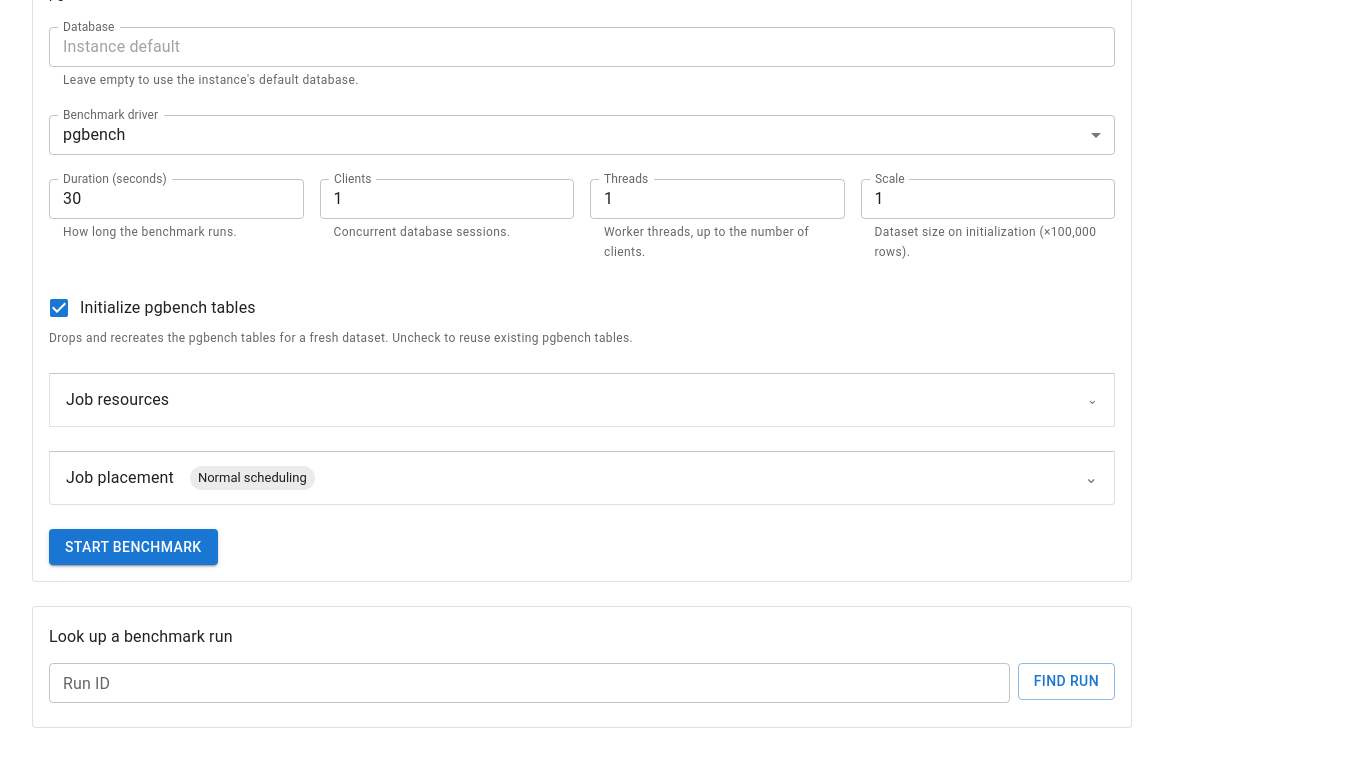
benchmark driver workflow › pgbench pauses a missing lookup and retries only its GET
(page scrolled)
Type " saved-run " into the field labelled "Run ID" at [529, 683], box [49, 663, 1010, 703]
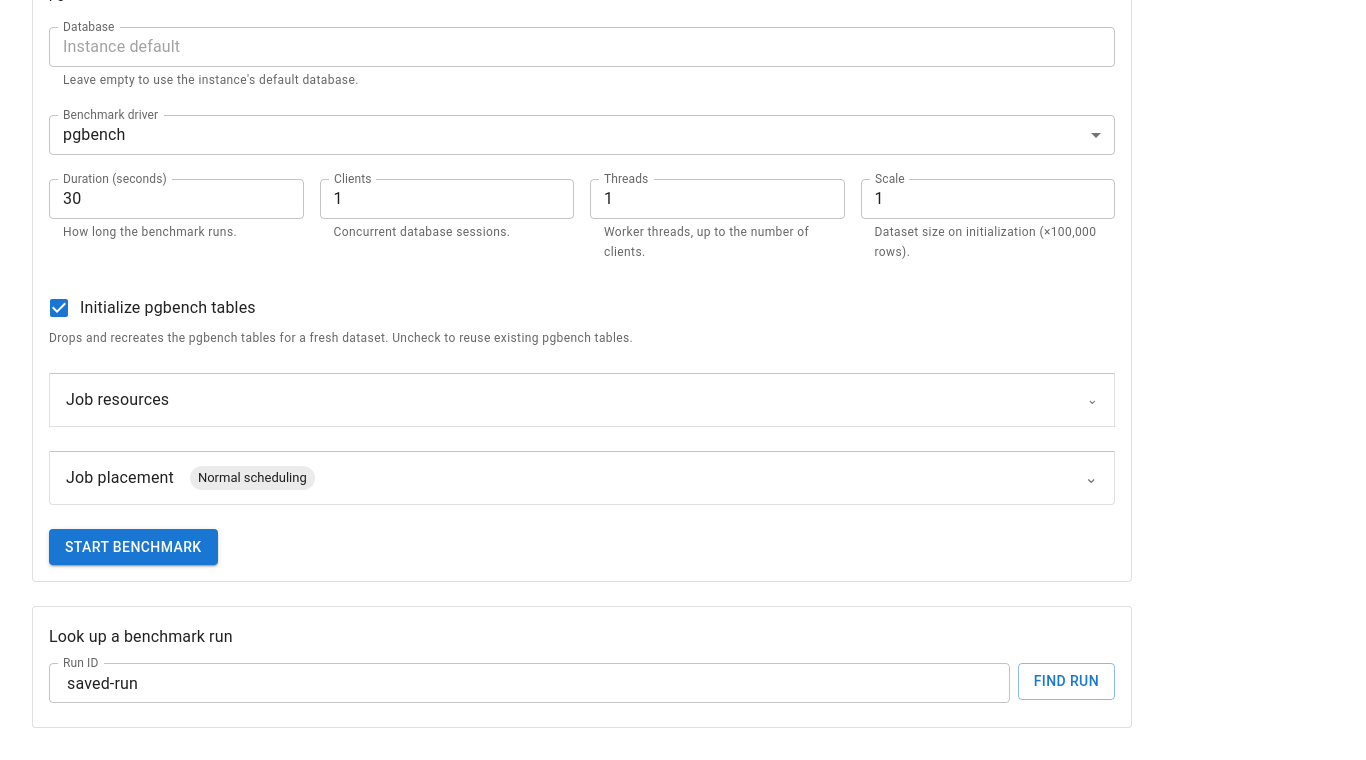
Click the button "Find run" at [1066, 681], box [1018, 663, 1115, 700]
Wait 10000 ms
(page scrolled)
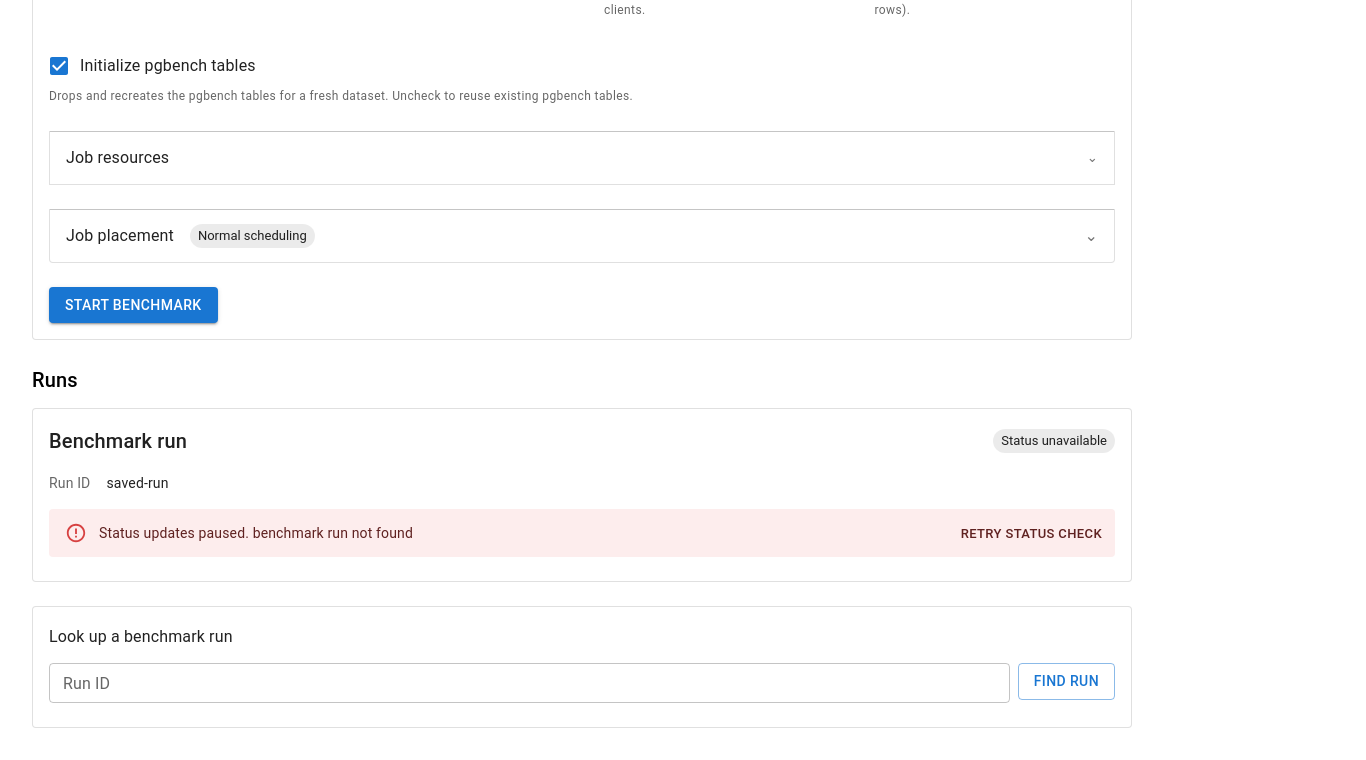
Now the text "Status updates paused. benchmark run not found" is shown, box [99, 525, 413, 541]
Click the button "Retry status check" at [1031, 534], box [956, 519, 1107, 550]
(page scrolled)
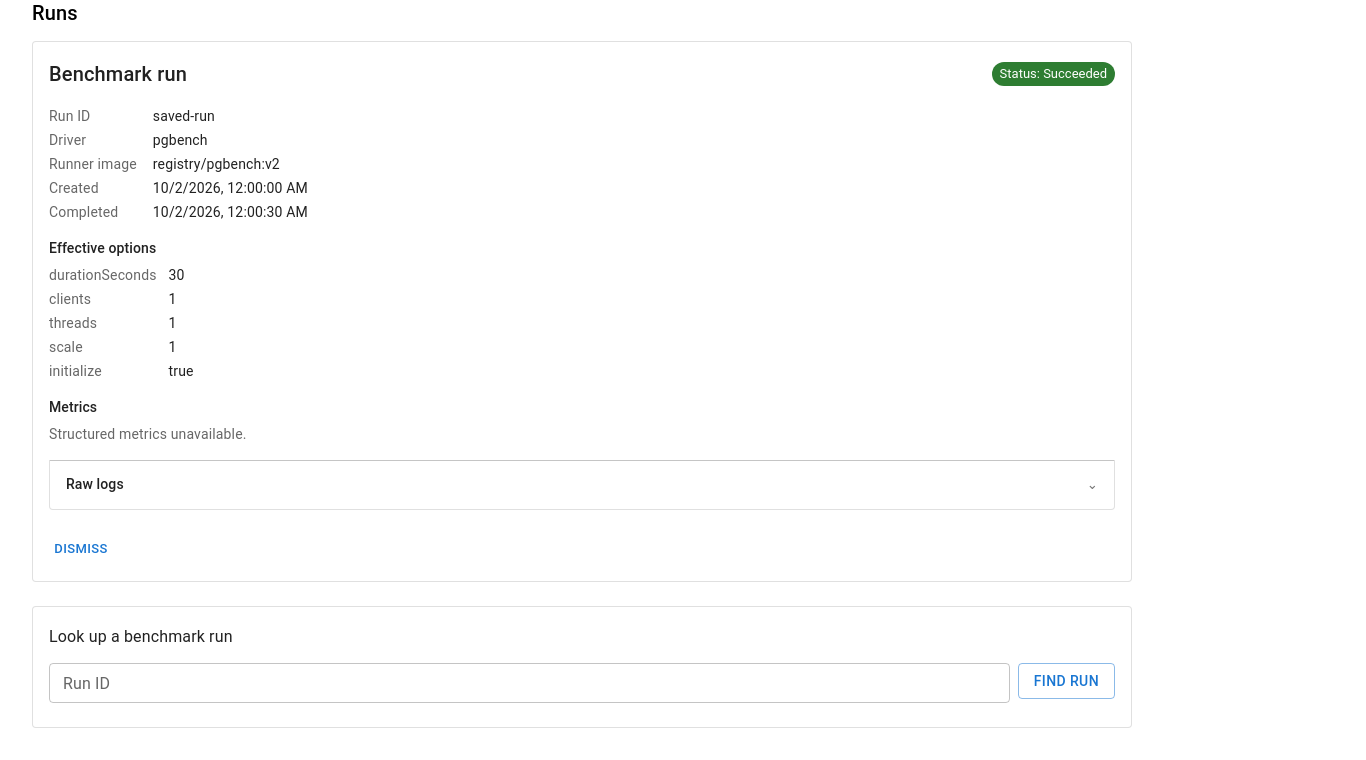
Now the message shows "Succeeded", box [1000, 66, 1107, 81]
Now the text "Structured metrics unavailable." is shown, box [49, 426, 247, 442]
